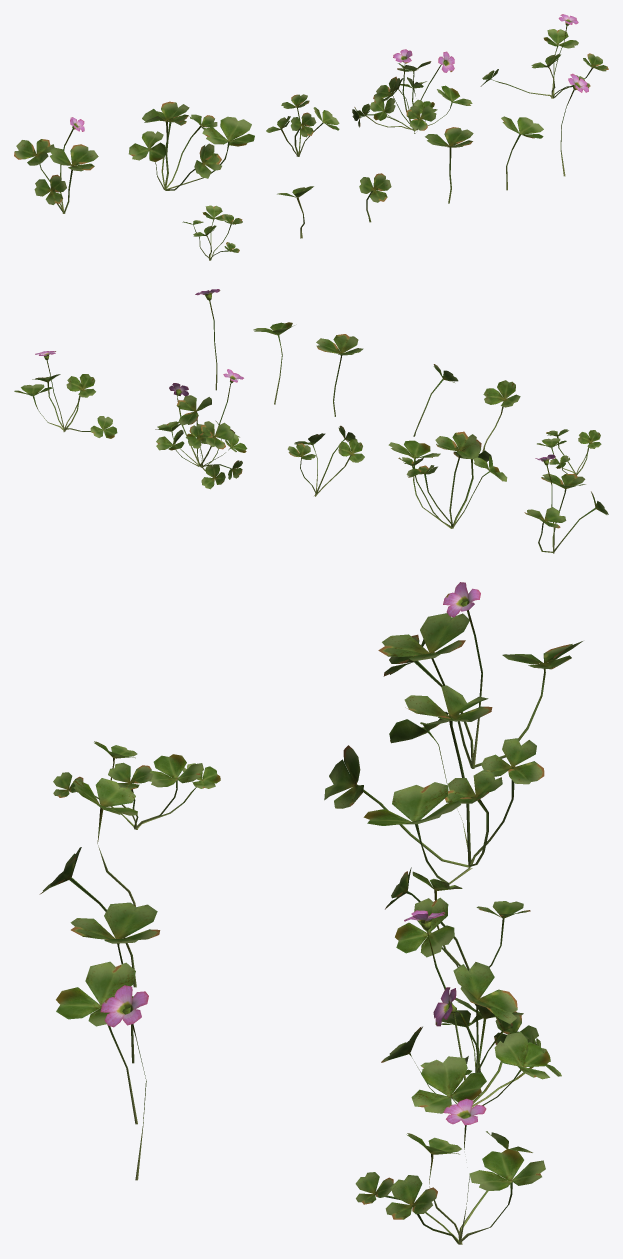
Rendered from shrub_sorrel_01.glb.
The picture shows the model from 3 angles, top to bottom: view 1: azimuth 30°, elevation 25°; view 2: azimuth 150°, elevation 25°; view 3: azimuth 270°, elevation 25°; orthographic projection. The views are drawn at different scales.
Visible parts, largest first — view 1: shrub_sorrel_01_b, shrub_sorrel_01_d, shrub_sorrel_01_a, shrub_sorrel_01_e, shrub_sorrel_01_c, shrub_sorrel_01_f, shrub_sorrel_01_i, shrub_sorrel_01_h, shrub_sorrel_01_j, shrub_sorrel_01_k; view 2: shrub_sorrel_01_d, shrub_sorrel_01_b, shrub_sorrel_01_e, shrub_sorrel_01_a, shrub_sorrel_01_c, shrub_sorrel_01_f, shrub_sorrel_01_i, shrub_sorrel_01_g, shrub_sorrel_01_j; view 3: shrub_sorrel_01_b, shrub_sorrel_01_d, shrub_sorrel_01_e, shrub_sorrel_01_a, shrub_sorrel_01_f, shrub_sorrel_01_c, shrub_sorrel_01_j, shrub_sorrel_01_i, shrub_sorrel_01_g, shrub_sorrel_01_k.
Boxes of the visible parts, x1,y1,x2,y2 form: shrub_sorrel_01_b: [128, 101, 254, 190]; shrub_sorrel_01_d: [352, 49, 472, 133]; shrub_sorrel_01_a: [14, 117, 98, 213]; shrub_sorrel_01_e: [480, 14, 608, 98]; shrub_sorrel_01_c: [266, 94, 339, 156]; shrub_sorrel_01_f: [182, 205, 242, 260]; shrub_sorrel_01_i: [425, 127, 473, 203]; shrub_sorrel_01_h: [359, 173, 391, 222]; shrub_sorrel_01_j: [501, 116, 543, 190]; shrub_sorrel_01_k: [560, 73, 588, 176]; shrub_sorrel_01_d: [155, 369, 247, 489]; shrub_sorrel_01_b: [388, 431, 507, 528]; shrub_sorrel_01_e: [14, 351, 117, 438]; shrub_sorrel_01_a: [524, 454, 608, 553]; shrub_sorrel_01_c: [287, 425, 364, 496]; shrub_sorrel_01_f: [537, 429, 601, 475]; shrub_sorrel_01_i: [316, 334, 363, 416]; shrub_sorrel_01_g: [482, 380, 520, 451]; shrub_sorrel_01_j: [253, 322, 294, 404]; shrub_sorrel_01_b: [324, 685, 544, 884]; shrub_sorrel_01_d: [381, 910, 561, 1113]; shrub_sorrel_01_e: [355, 1098, 545, 1244]; shrub_sorrel_01_a: [378, 582, 582, 768]; shrub_sorrel_01_f: [53, 741, 220, 829]; shrub_sorrel_01_c: [385, 867, 530, 970]; shrub_sorrel_01_j: [56, 961, 137, 1124]; shrub_sorrel_01_i: [70, 902, 160, 1063]; shrub_sorrel_01_g: [73, 778, 137, 906]; shrub_sorrel_01_k: [100, 985, 148, 1180].
Size of the model in its own units: 0.3521 by 0.058 by 0.1464.
Materials: 1 (1 with a texture image).
